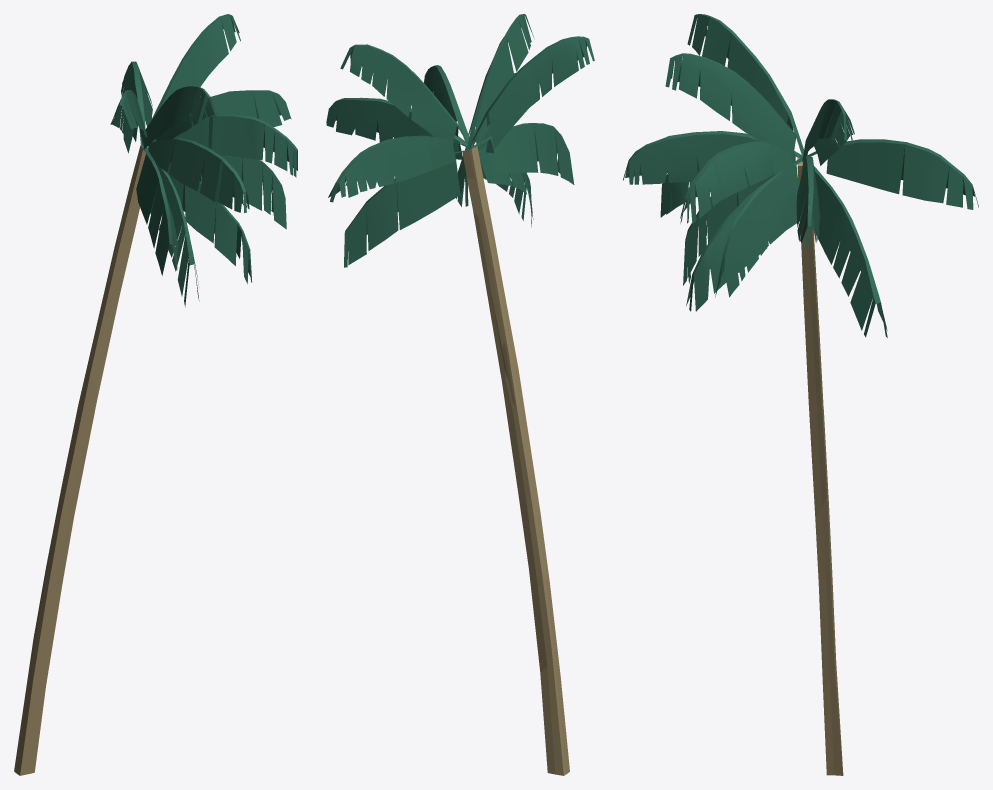
File: tree_palm_nibong_C.fbx
3 views of the same model, side by side, from view 1: azimuth 30°, elevation 25°; view 2: azimuth 150°, elevation 25°; view 3: azimuth 270°, elevation 25° (orthographic). The views are drawn at different scales.
Visible parts, largest first — view 1: palm_nibong_trunk_C, leaf_palm_nebong_C_6, leaf_palm_nebong_C_7, leaf_palm_nebong_C_12, leaf_palm_nebong_C_1, leaf_palm_nebong_C_8, leaf_palm_nebong_C_2, leaf_palm_nebong_C_10, leaf_palm_nebong_C_5, leaf_palm_nebong_C_9, leaf_palm_nebong_C_3, leaf_palm_nebong_C_4; view 2: palm_nibong_trunk_C, leaf_palm_nebong_A_11, leaf_palm_nebong_C_3, leaf_palm_nebong_C_4, leaf_palm_nebong_C_1, leaf_palm_nebong_C_8, leaf_palm_nebong_C_5, leaf_palm_nebong_C_2, leaf_palm_nebong_C_9, leaf_palm_nebong_C_6; view 3: palm_nibong_trunk_C, leaf_palm_nebong_C_4, leaf_palm_nebong_C_2, leaf_palm_nebong_C_10, leaf_palm_nebong_A_11, leaf_palm_nebong_C_6, leaf_palm_nebong_C_7, leaf_palm_nebong_C_3, leaf_palm_nebong_C_12, leaf_palm_nebong_C_9, leaf_palm_nebong_C_1, leaf_palm_nebong_C_5 (+1 smaller).
Boxes of the visible parts, bbox=[...] form: palm_nibong_trunk_C: bbox=[14, 145, 148, 775]; leaf_palm_nebong_C_6: bbox=[152, 114, 297, 177]; leaf_palm_nebong_C_7: bbox=[143, 138, 249, 212]; leaf_palm_nebong_C_12: bbox=[147, 148, 251, 283]; leaf_palm_nebong_C_1: bbox=[142, 14, 240, 145]; leaf_palm_nebong_C_8: bbox=[136, 147, 178, 275]; leaf_palm_nebong_C_2: bbox=[142, 85, 218, 149]; leaf_palm_nebong_C_10: bbox=[142, 146, 286, 229]; leaf_palm_nebong_C_5: bbox=[152, 90, 291, 142]; leaf_palm_nebong_C_9: bbox=[147, 147, 199, 307]; leaf_palm_nebong_C_3: bbox=[110, 90, 147, 153]; leaf_palm_nebong_C_4: bbox=[121, 61, 152, 146]; palm_nibong_trunk_C: bbox=[462, 146, 569, 775]; leaf_palm_nebong_A_11: bbox=[344, 150, 466, 267]; leaf_palm_nebong_C_3: bbox=[469, 36, 594, 148]; leaf_palm_nebong_C_4: bbox=[328, 135, 471, 202]; leaf_palm_nebong_C_1: bbox=[340, 44, 470, 148]; leaf_palm_nebong_C_8: bbox=[473, 123, 574, 184]; leaf_palm_nebong_C_5: bbox=[326, 97, 468, 153]; leaf_palm_nebong_C_2: bbox=[467, 14, 534, 150]; leaf_palm_nebong_C_9: bbox=[466, 145, 533, 227]; leaf_palm_nebong_C_6: bbox=[423, 65, 473, 150]; palm_nibong_trunk_C: bbox=[797, 155, 843, 775]; leaf_palm_nebong_C_4: bbox=[807, 139, 978, 209]; leaf_palm_nebong_C_2: bbox=[665, 53, 803, 162]; leaf_palm_nebong_C_10: bbox=[715, 157, 802, 297]; leaf_palm_nebong_A_11: bbox=[814, 166, 887, 337]; leaf_palm_nebong_C_6: bbox=[680, 141, 799, 223]; leaf_palm_nebong_C_7: bbox=[623, 131, 802, 184]; leaf_palm_nebong_C_3: bbox=[687, 14, 803, 157]; leaf_palm_nebong_C_12: bbox=[686, 160, 802, 311]; leaf_palm_nebong_C_9: bbox=[683, 162, 802, 285]; leaf_palm_nebong_C_1: bbox=[802, 99, 854, 165]; leaf_palm_nebong_C_5: bbox=[796, 156, 820, 247].
Bounding box in the file's own units: 221 × 571 × 237.
